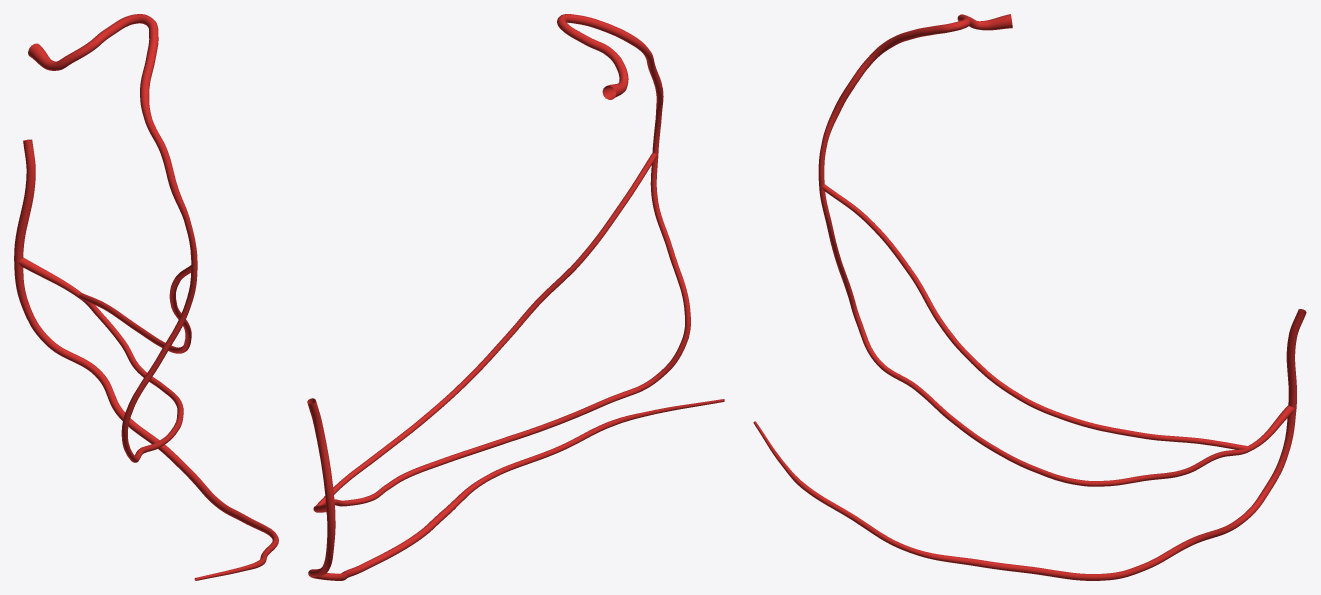
Rendered from circulatorio-posterior-lateral-nasal-branches-of-sphenopalatine-artery-l.glb.
3 renders of one model, left to right at view 1: azimuth 30°, elevation 25°; view 2: azimuth 150°, elevation 25°; view 3: azimuth 270°, elevation 25°, orthographic. The views are drawn at different scales.
Visible parts, largest first — view 1: Posterior lateral nasal branches of sphenopalatine artery..l; view 2: Posterior lateral nasal branches of sphenopalatine artery..l; view 3: Posterior lateral nasal branches of sphenopalatine artery..l.
Boxes of the visible parts, x1=… form: Posterior lateral nasal branches of sphenopalatine artery..l: x1=14, y1=14, x2=278, y2=580; Posterior lateral nasal branches of sphenopalatine artery..l: x1=307, y1=14, x2=724, y2=580; Posterior lateral nasal branches of sphenopalatine artery..l: x1=753, y1=14, x2=1306, y2=580.
Bounding box in the file's own units: 0.0158 × 0.0386 × 0.0385.
